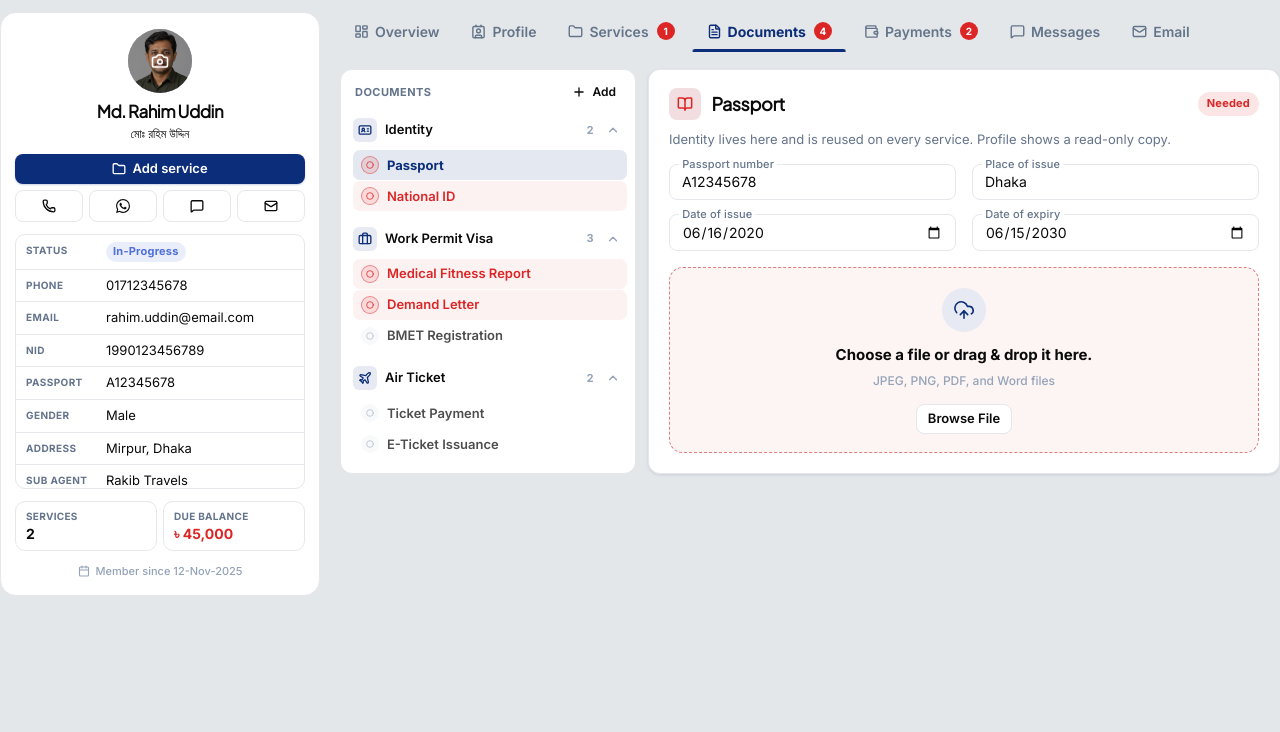
Test: client documents tab › nests papers under each group and opens a document in the workspace
Check: the button "National ID" is shown, box [353,181,627,211]
Check: the heading "Passport" is shown, box [711,92,785,115]
Click the button "Medical Fitness Report" at (490, 274), box [353,259,627,289]
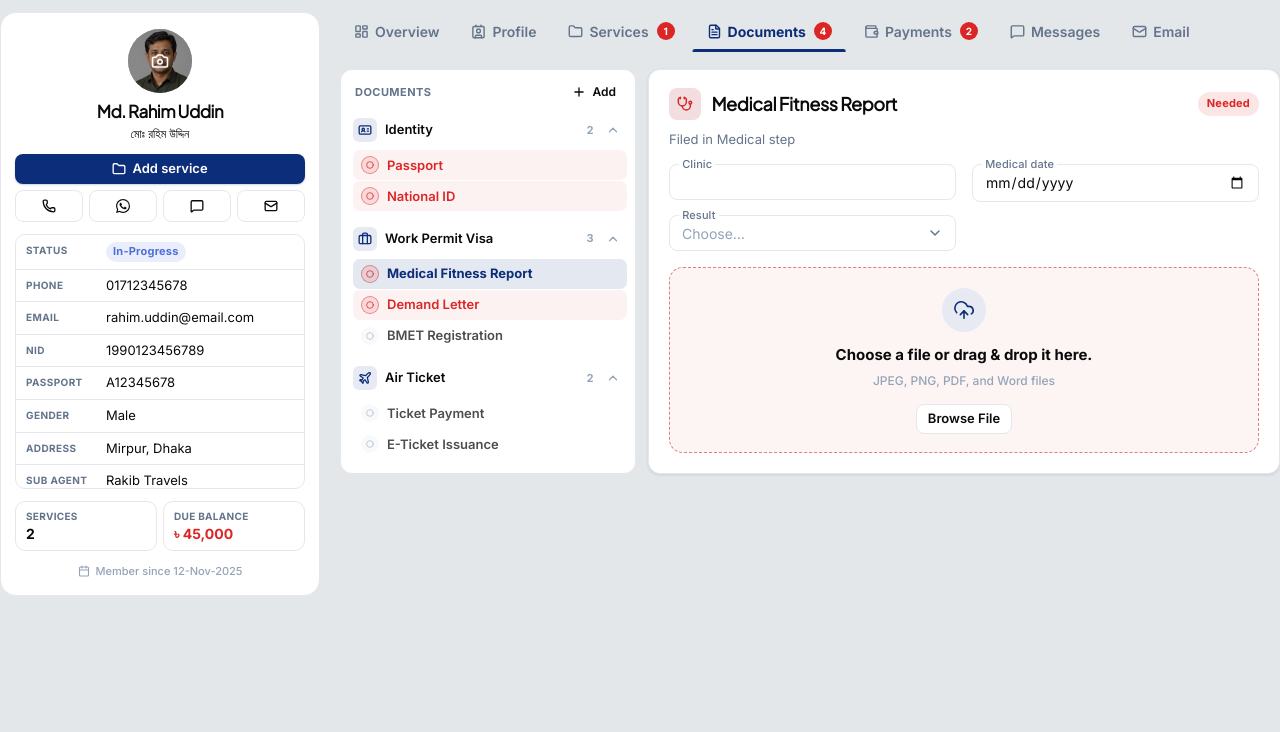
Check: the heading "Medical Fitness Report" is shown, box [711,92,897,115]
